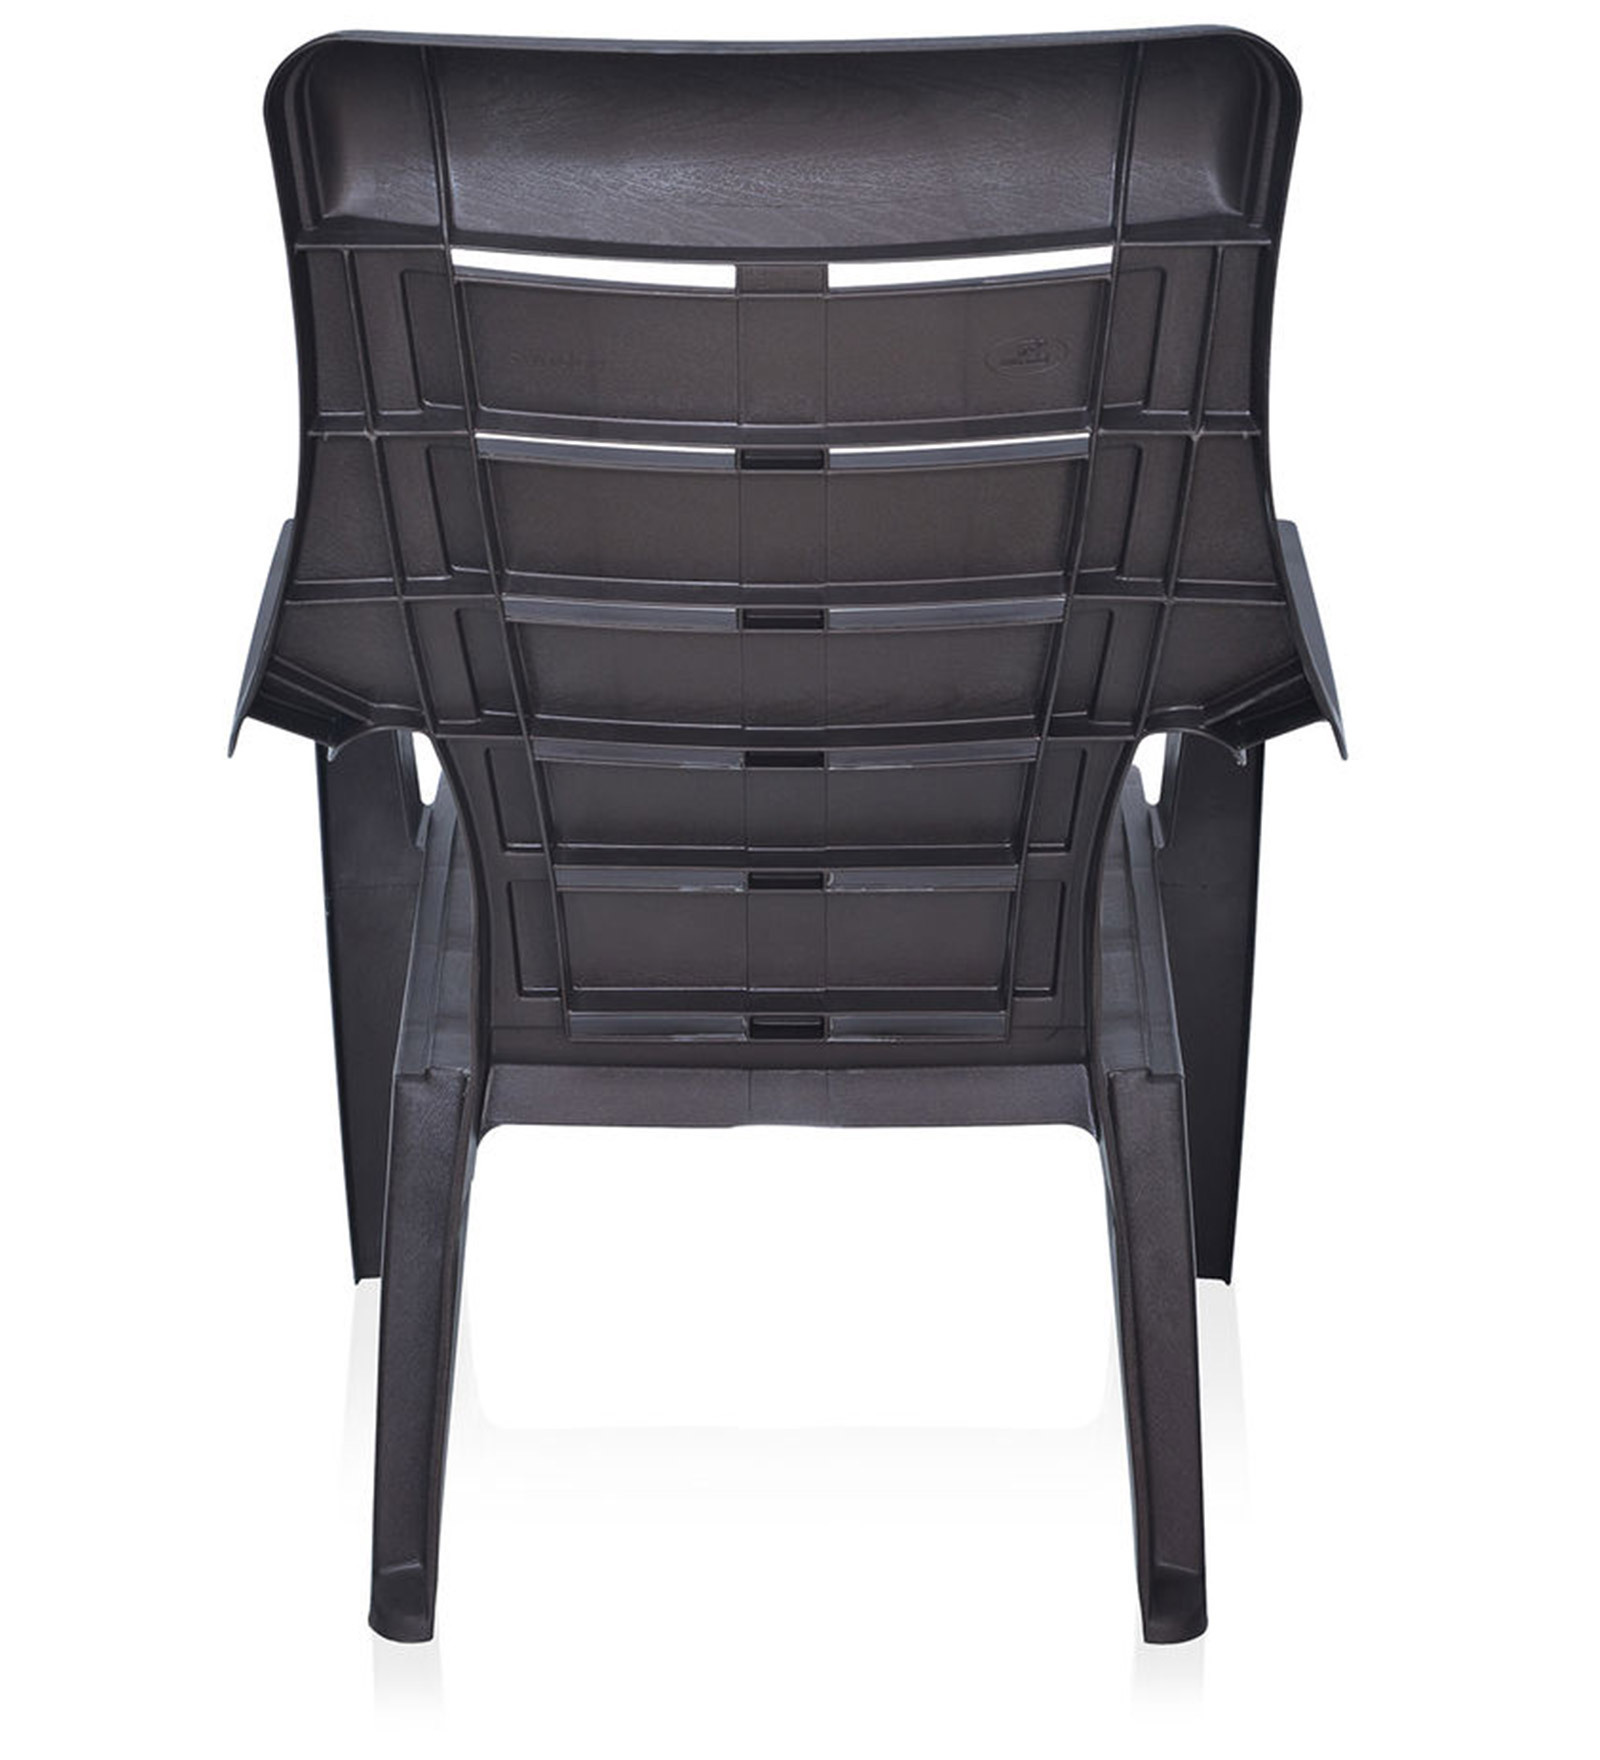Sunday Leisure Chair Set of 2 in Dark Brown Colour by Nilkamal: (182, 21, 1398, 1702)
